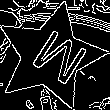M_SW: (17, 23, 84, 90)
